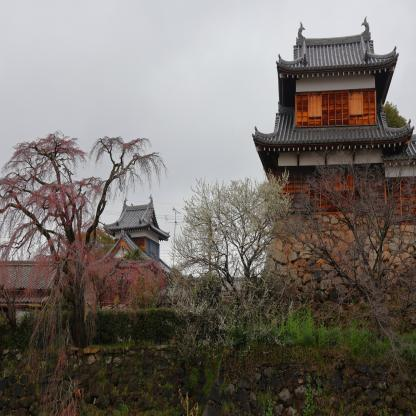Ume: (0, 130, 170, 416), (166, 166, 296, 362)
